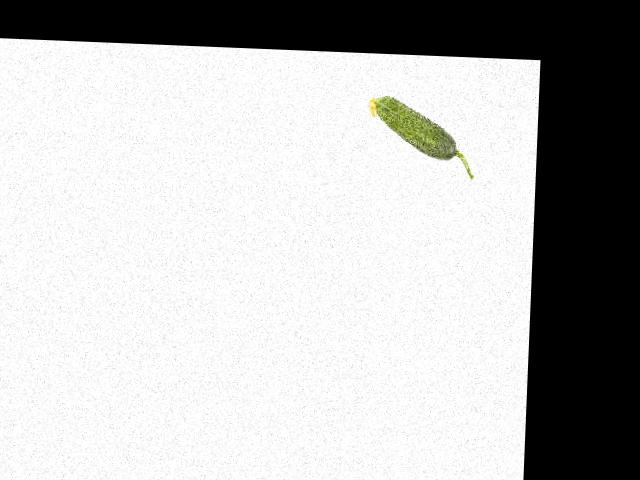cucumber: (364, 94, 476, 178)
